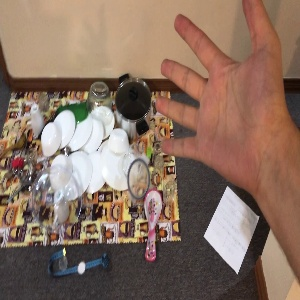hand: (156, 1, 286, 191)
